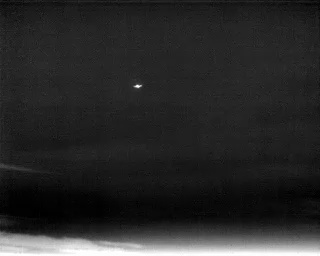AIRPLANE: (132, 82, 144, 91)
